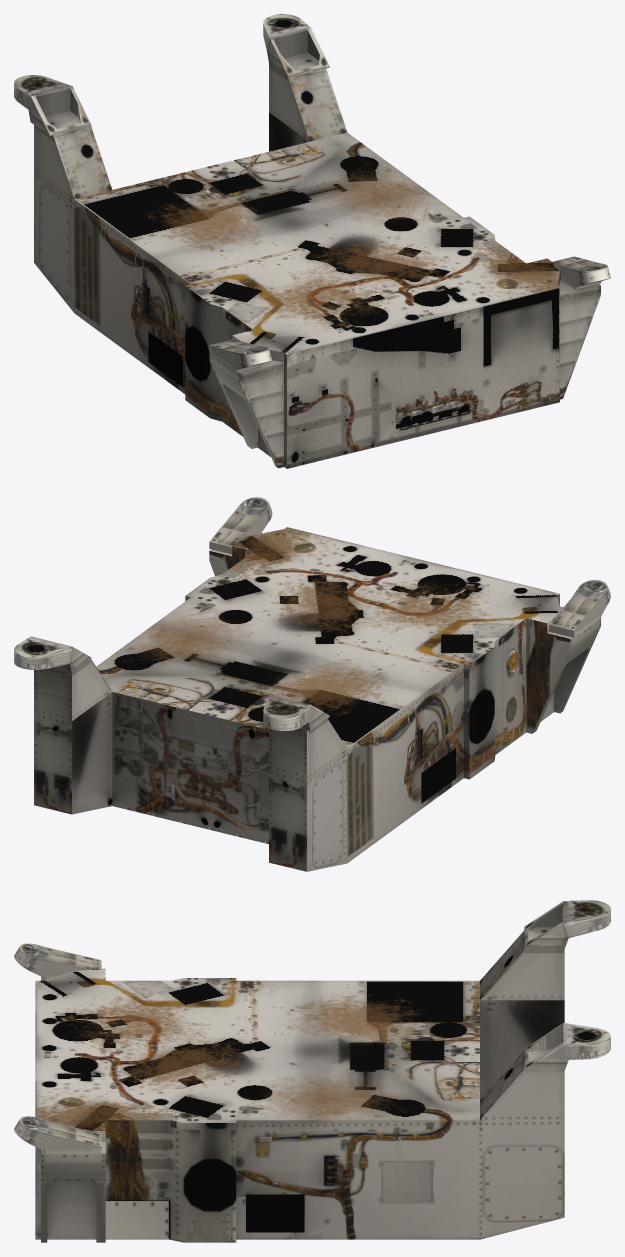
Rendered from MSL_dirty_mod_chassis.dae.
3 renders of one model, top to bottom at view 1: azimuth 30°, elevation 25°; view 2: azimuth 150°, elevation 25°; view 3: azimuth 270°, elevation 25°, orthographic. The views are drawn at different scales.
Visible parts, largest first — view 1: Chassis; view 2: Chassis; view 3: Chassis.
Part boxes in pixels (x1,y1,x2,y2): Chassis: (14, 14, 610, 468); Chassis: (14, 497, 610, 871); Chassis: (14, 900, 610, 1242).
Bounding box in the file's own units: 1.54 × 2.08 × 0.76.
2 materials, 2 textured.
